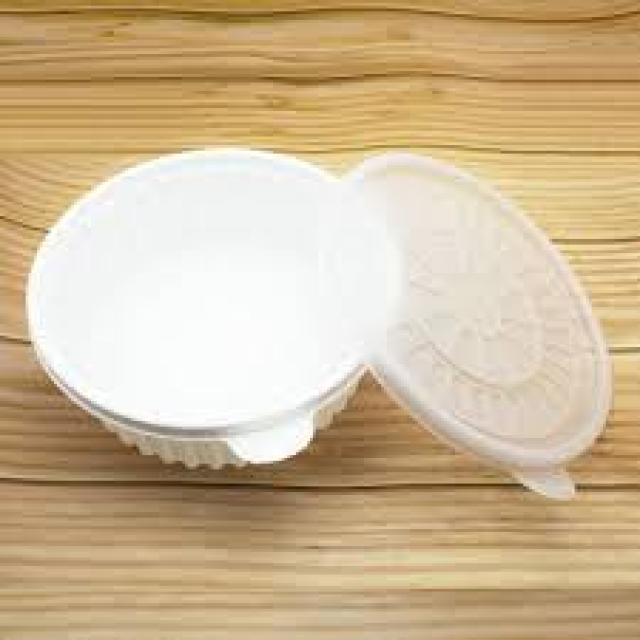disposable: (26, 144, 406, 488)
